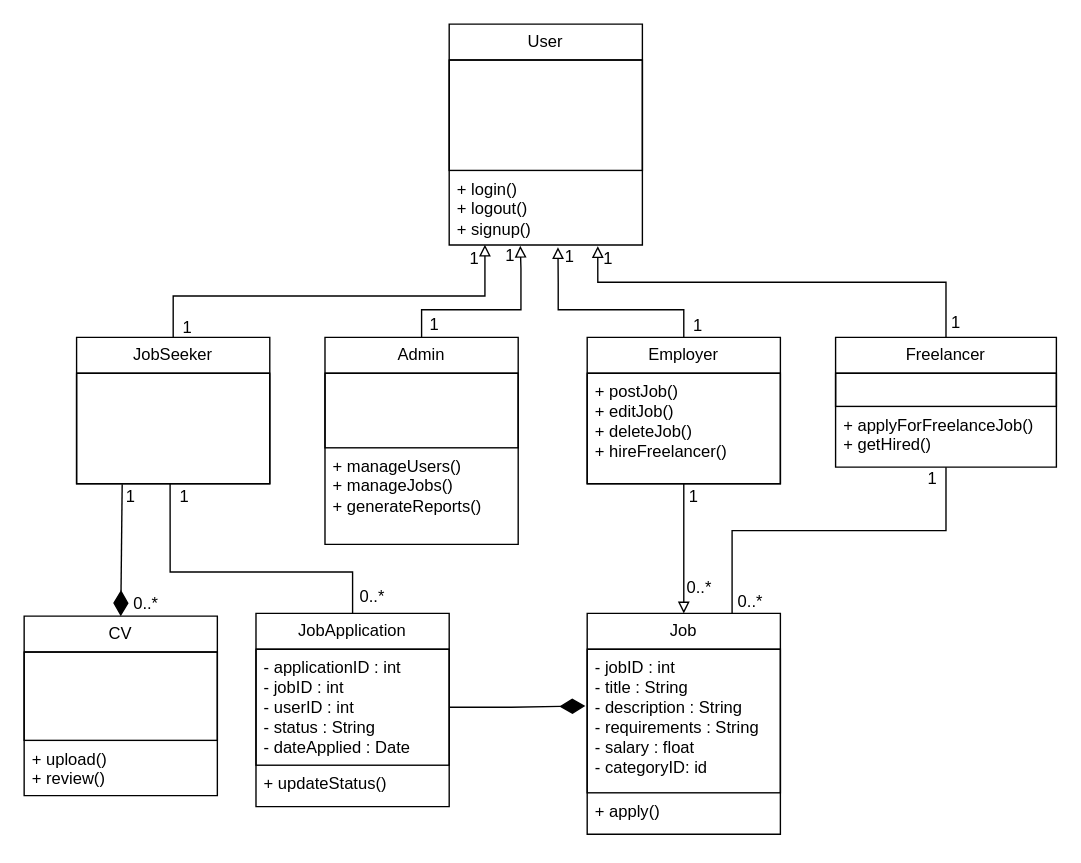
Some shapes in this 1081 by 863 pixel diagram are drawn without their labels. Here are the shapes that lost their labels. From the top down, the centre of each, then its label:
point 545,114: - userId : int - name : String - email : String -password : String
point 945,389: - portfolio : String
point 172,428: + uploadCV() + applyForJob() + findJob() + reviewCV()
point 421,410: - adminID : int - name : String - email : String
point 120,695: - cvID : int - userID : int - filePath : String - reviewStatus : String
